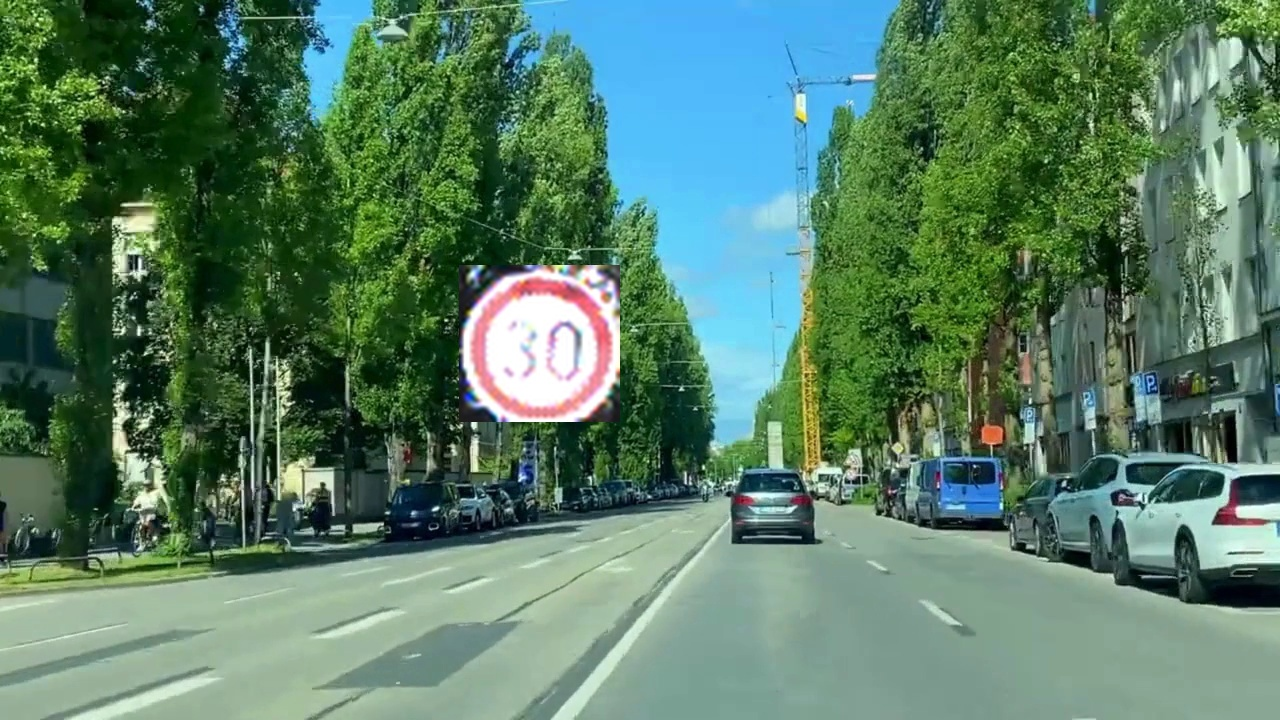Speed 30: (459, 265, 620, 422)
